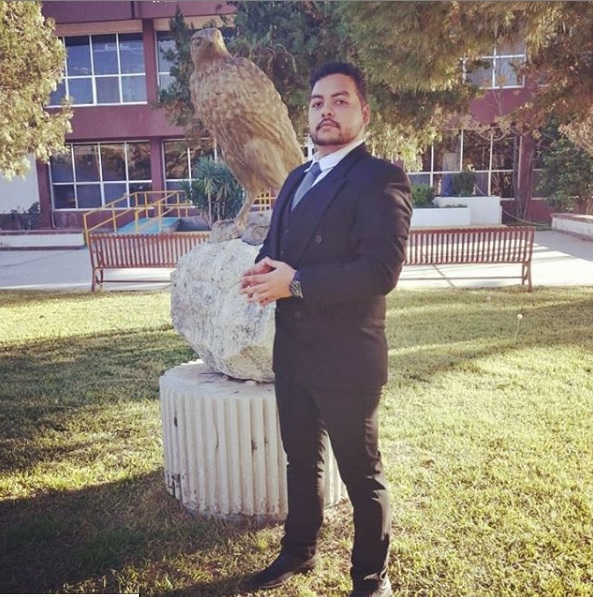Yoshi: (202, 60, 427, 382)
